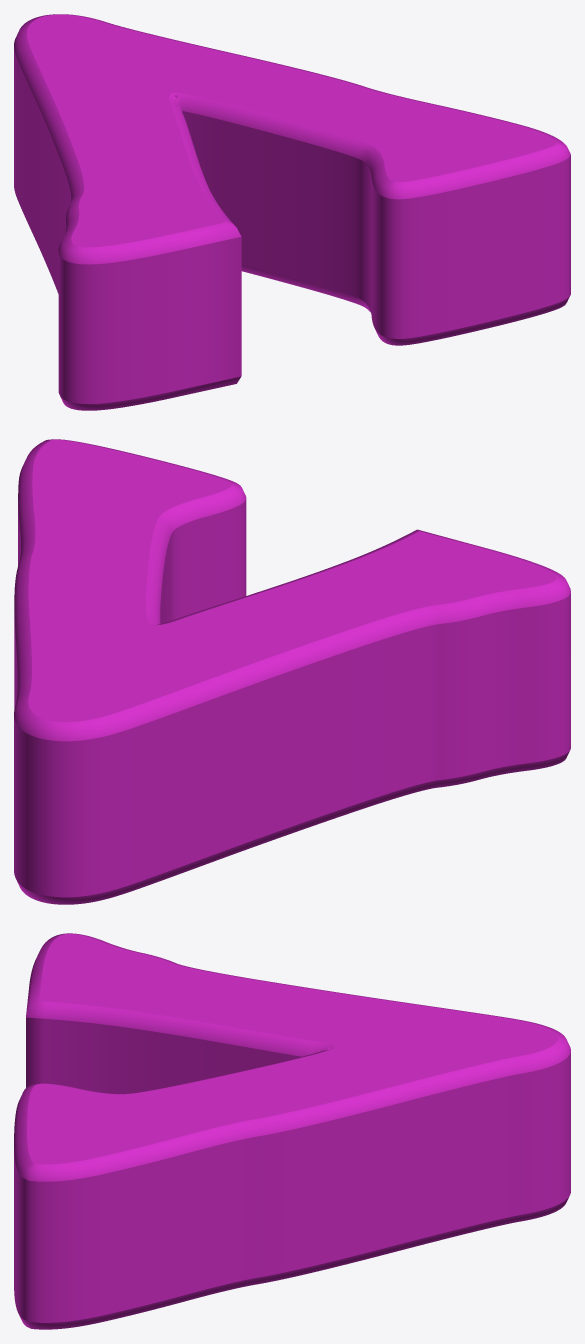
The model's file is Bubble_Letter_v.fbx.
3 renders of one model, top to bottom at view 1: azimuth 30°, elevation 25°; view 2: azimuth 150°, elevation 25°; view 3: azimuth 270°, elevation 25°, orthographic. The views are drawn at different scales.
Visible parts, largest first — view 1: BubbleLetter_v; view 2: BubbleLetter_v; view 3: BubbleLetter_v.
Boxes of the visible parts, x1=… form: BubbleLetter_v: x1=14, y1=14, x2=570, y2=410; BubbleLetter_v: x1=14, y1=439, x2=570, y2=904; BubbleLetter_v: x1=14, y1=933, x2=570, y2=1329.
Size of the model in its own units: 0.4405 by 0.14 by 0.429.
